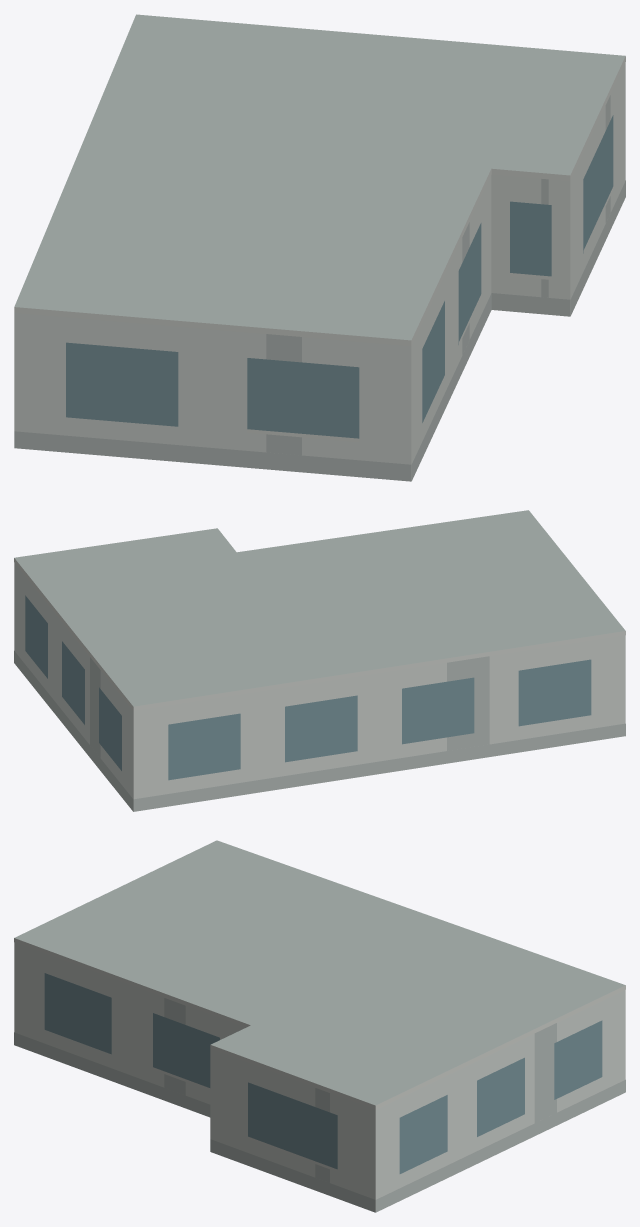
The model's file is residential-b2a3bfdc-f613-45db-a47d-90b874f9dc38.glb.
The picture shows the model from 3 angles, top to bottom: view 1: azimuth 30°, elevation 25°; view 2: azimuth 150°, elevation 25°; view 3: azimuth 270°, elevation 25°; orthographic projection. The views are drawn at different scales.
Visible parts, largest first — view 1: residential-b2a3bfdc-f613-45db-a47d-90b874f9dc38.tmp; view 2: residential-b2a3bfdc-f613-45db-a47d-90b874f9dc38.tmp; view 3: residential-b2a3bfdc-f613-45db-a47d-90b874f9dc38.tmp.
Boxes of the visible parts, box(x1,y1,x2,y2) form: residential-b2a3bfdc-f613-45db-a47d-90b874f9dc38.tmp: box(14, 14, 625, 481); residential-b2a3bfdc-f613-45db-a47d-90b874f9dc38.tmp: box(14, 510, 625, 811); residential-b2a3bfdc-f613-45db-a47d-90b874f9dc38.tmp: box(14, 840, 625, 1212).
Size of the model in its own units: 16.21 by 3.05 by 15.79.
